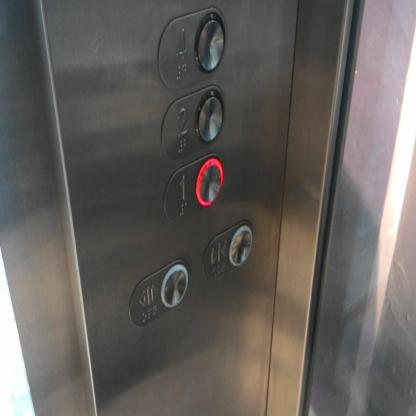1: (164, 151, 225, 223)
2: (159, 84, 225, 160)
4: (158, 7, 226, 89)
close: (203, 217, 256, 283)
open: (128, 257, 191, 328)
